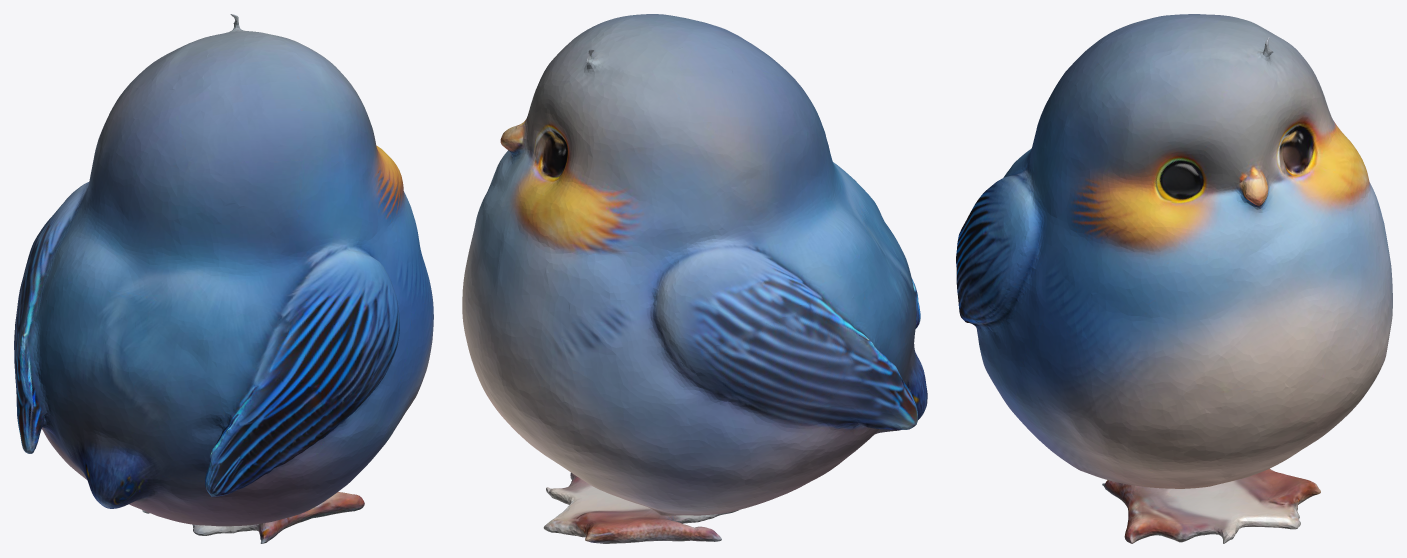
Rendered from bird.glb.
3 views of the same model, side by side, from view 1: azimuth 30°, elevation 25°; view 2: azimuth 150°, elevation 25°; view 3: azimuth 270°, elevation 25° (orthographic). The views are drawn at different scales.
Visible parts, largest first — view 1: geometry_0; view 2: geometry_0; view 3: geometry_0.
Boxes of the visible parts, x1,y1,x2,y2 form: geometry_0: (14, 14, 433, 543); geometry_0: (462, 14, 927, 543); geometry_0: (956, 14, 1392, 543).
Bounding box in the file's own units: 0.6847 × 0.7583 × 0.6289.
1 material, 1 textured.
